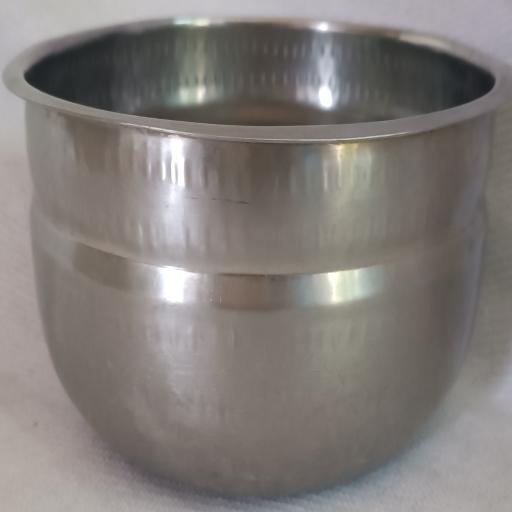vessel: (4, 19, 512, 493)
